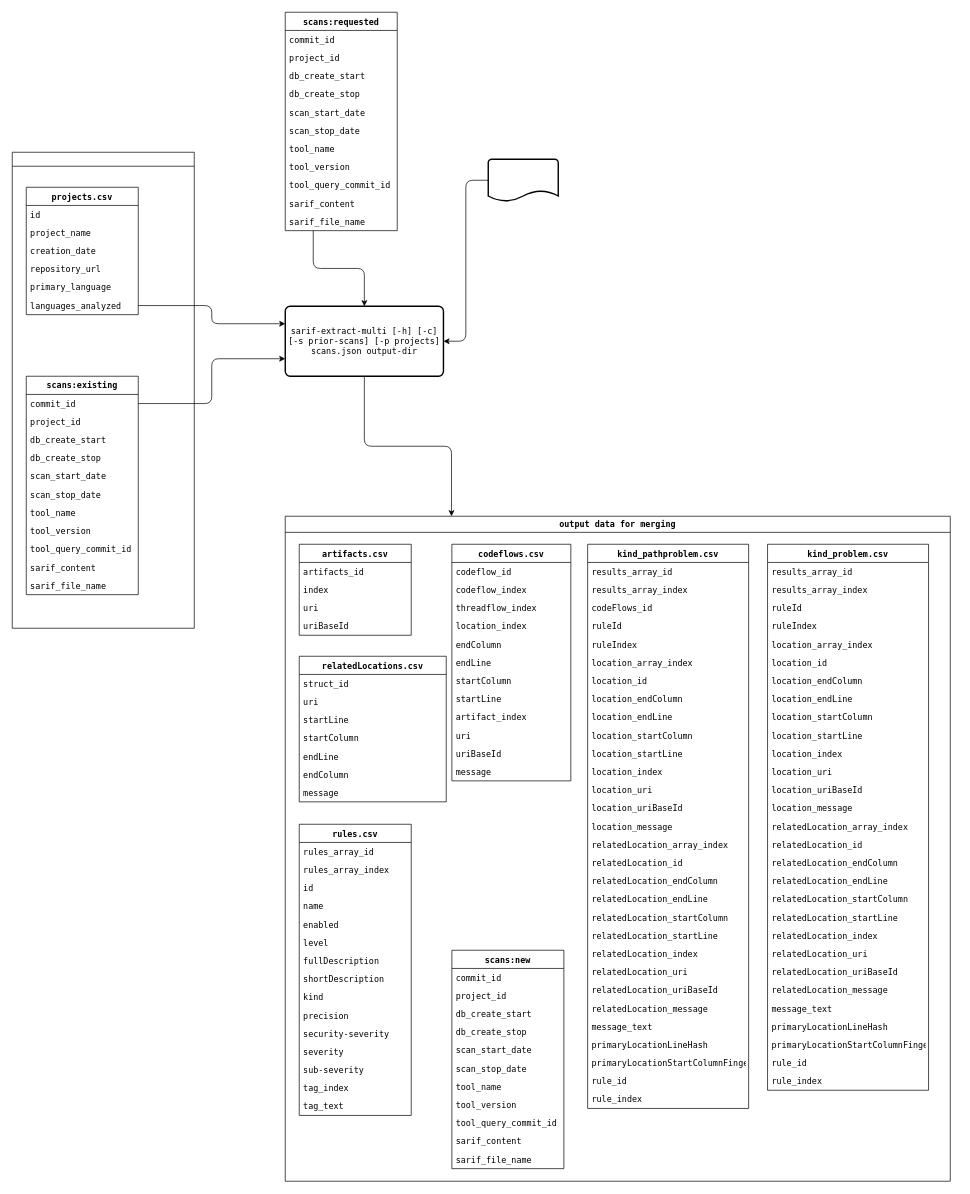
Some shapes in this 970 by 1194 pixel diagram are drawn without their labels. Each missing label, with the centre of its shape:
external data, read-only: point 103,390
scan.sarif: point 523,180
